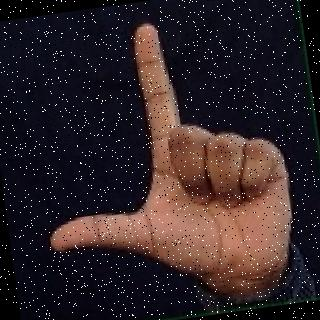L: (32, 0, 303, 319)
